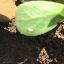Purslane: (8, 0, 64, 64)
